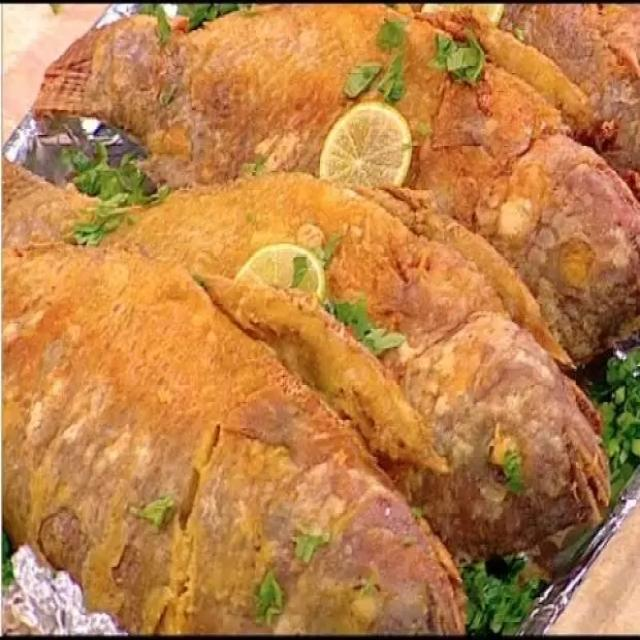Peixe: (2, 156, 612, 633), (32, 3, 639, 367)
